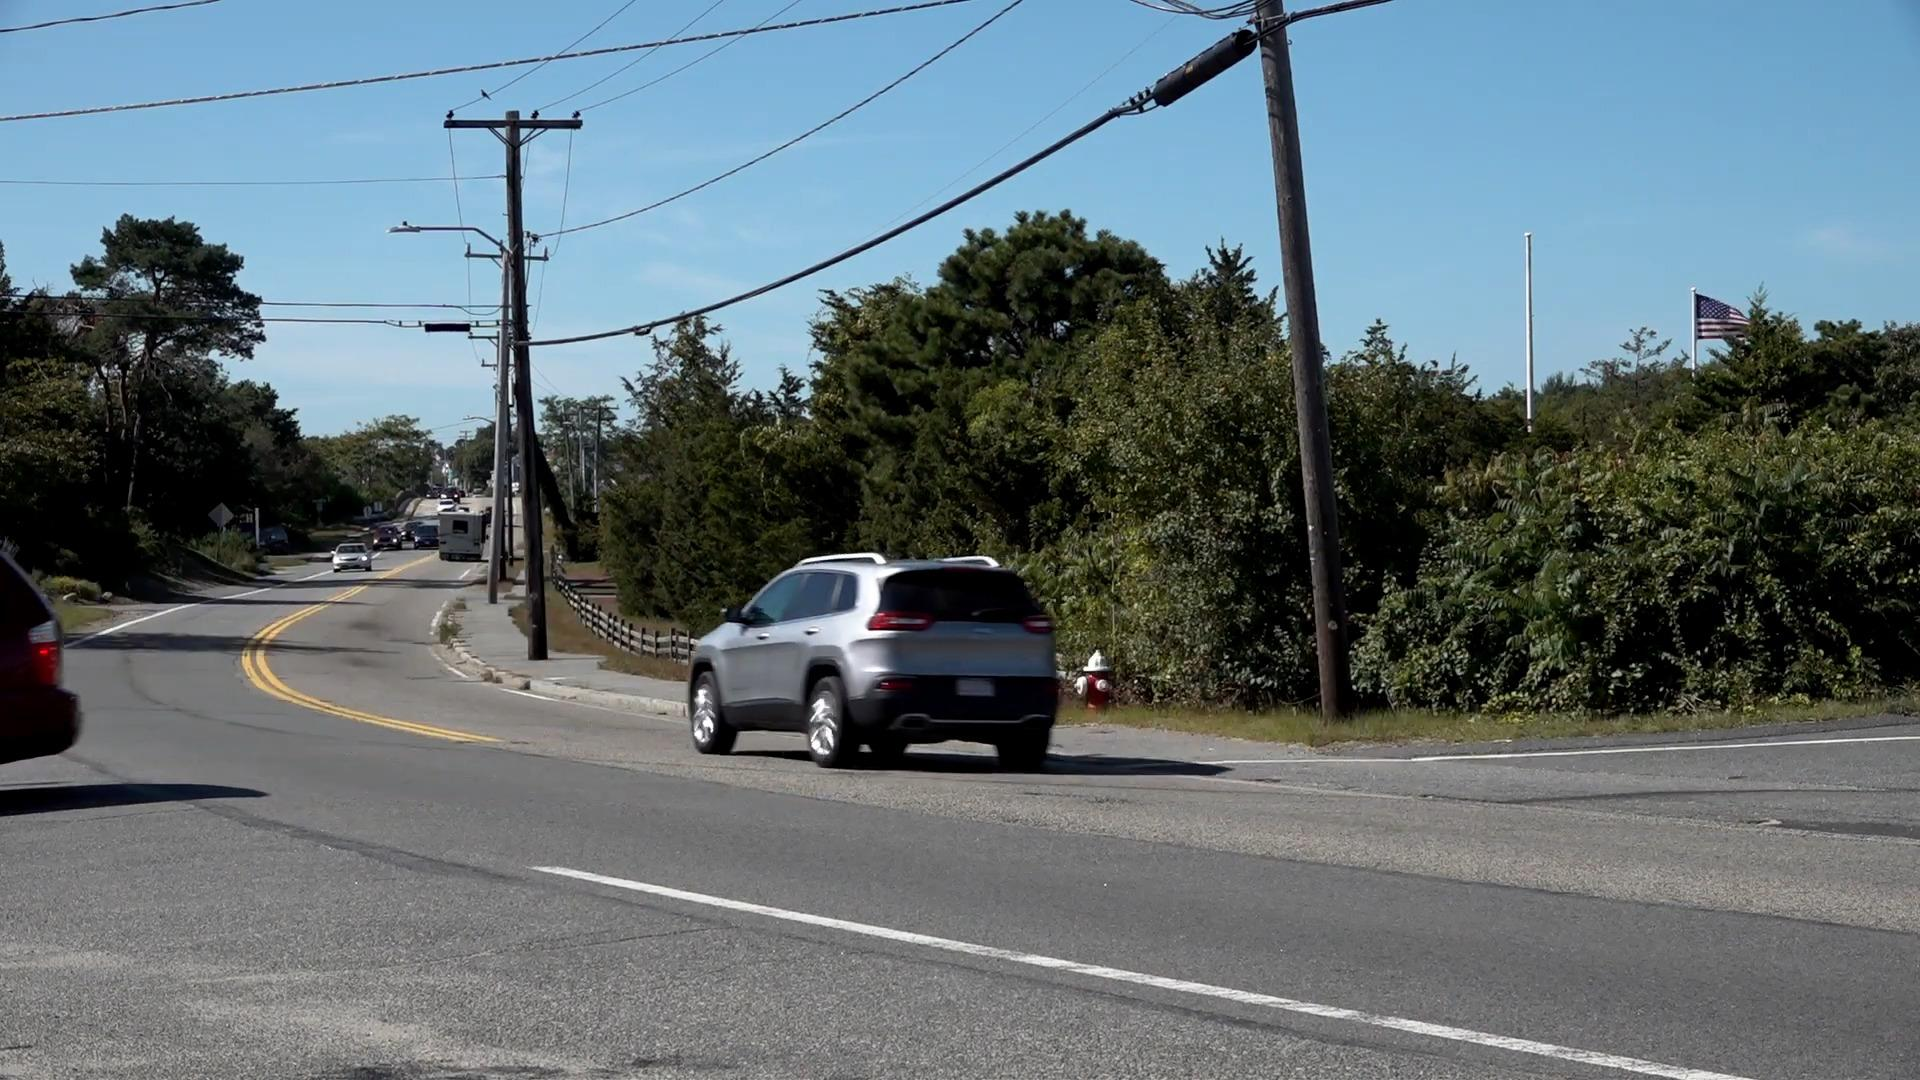suv: (686, 554, 1064, 767)
